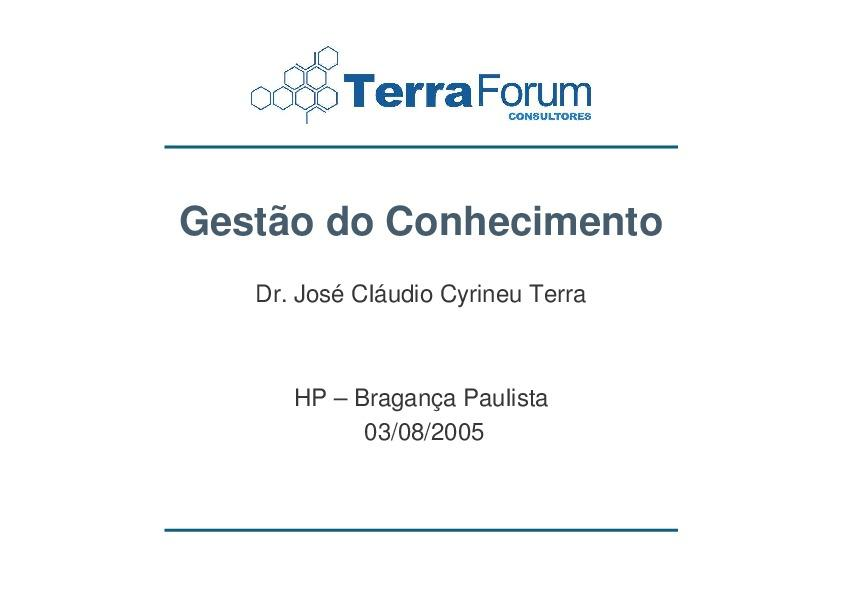paragraph: (341, 61, 609, 135)
subtitle: (164, 166, 711, 336), (264, 362, 674, 472)
